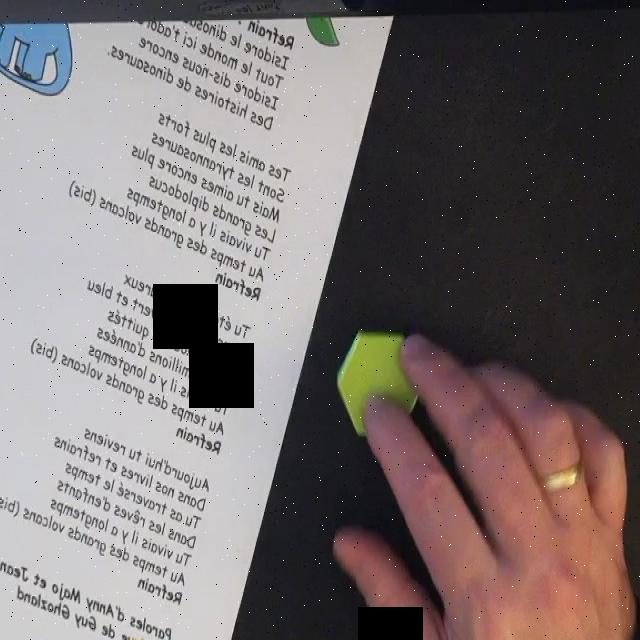hexagon: (335, 328, 425, 440)
